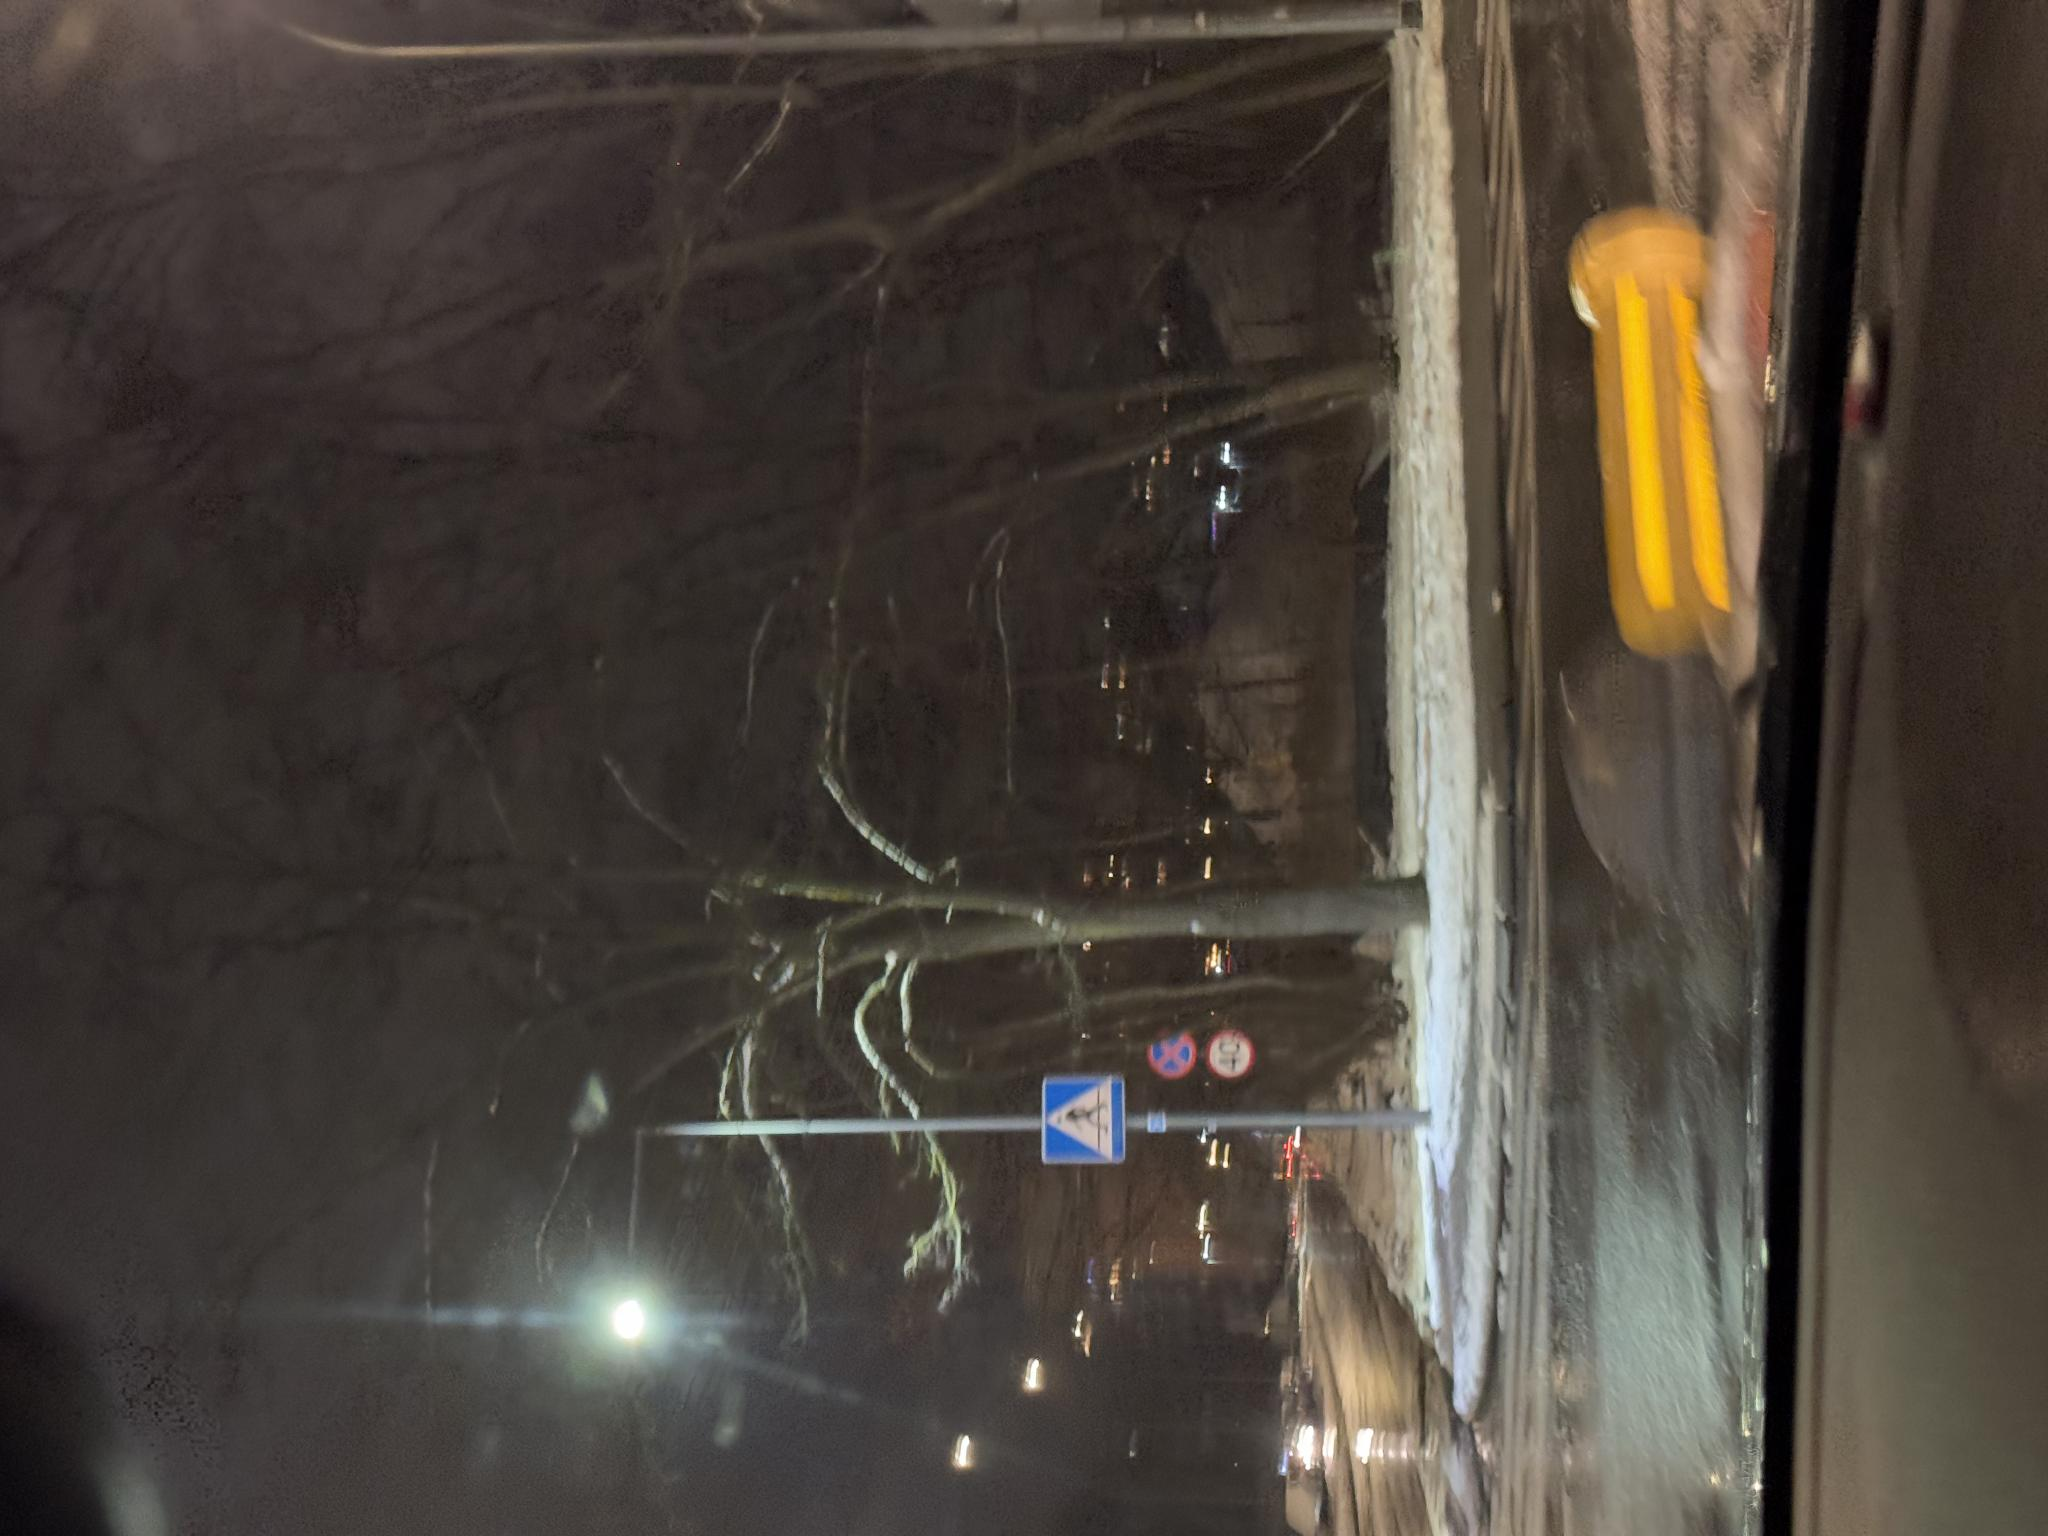information: (373, 1041, 461, 1126)
prohibitory: (455, 1144, 506, 1197), (456, 1205, 508, 1255)
